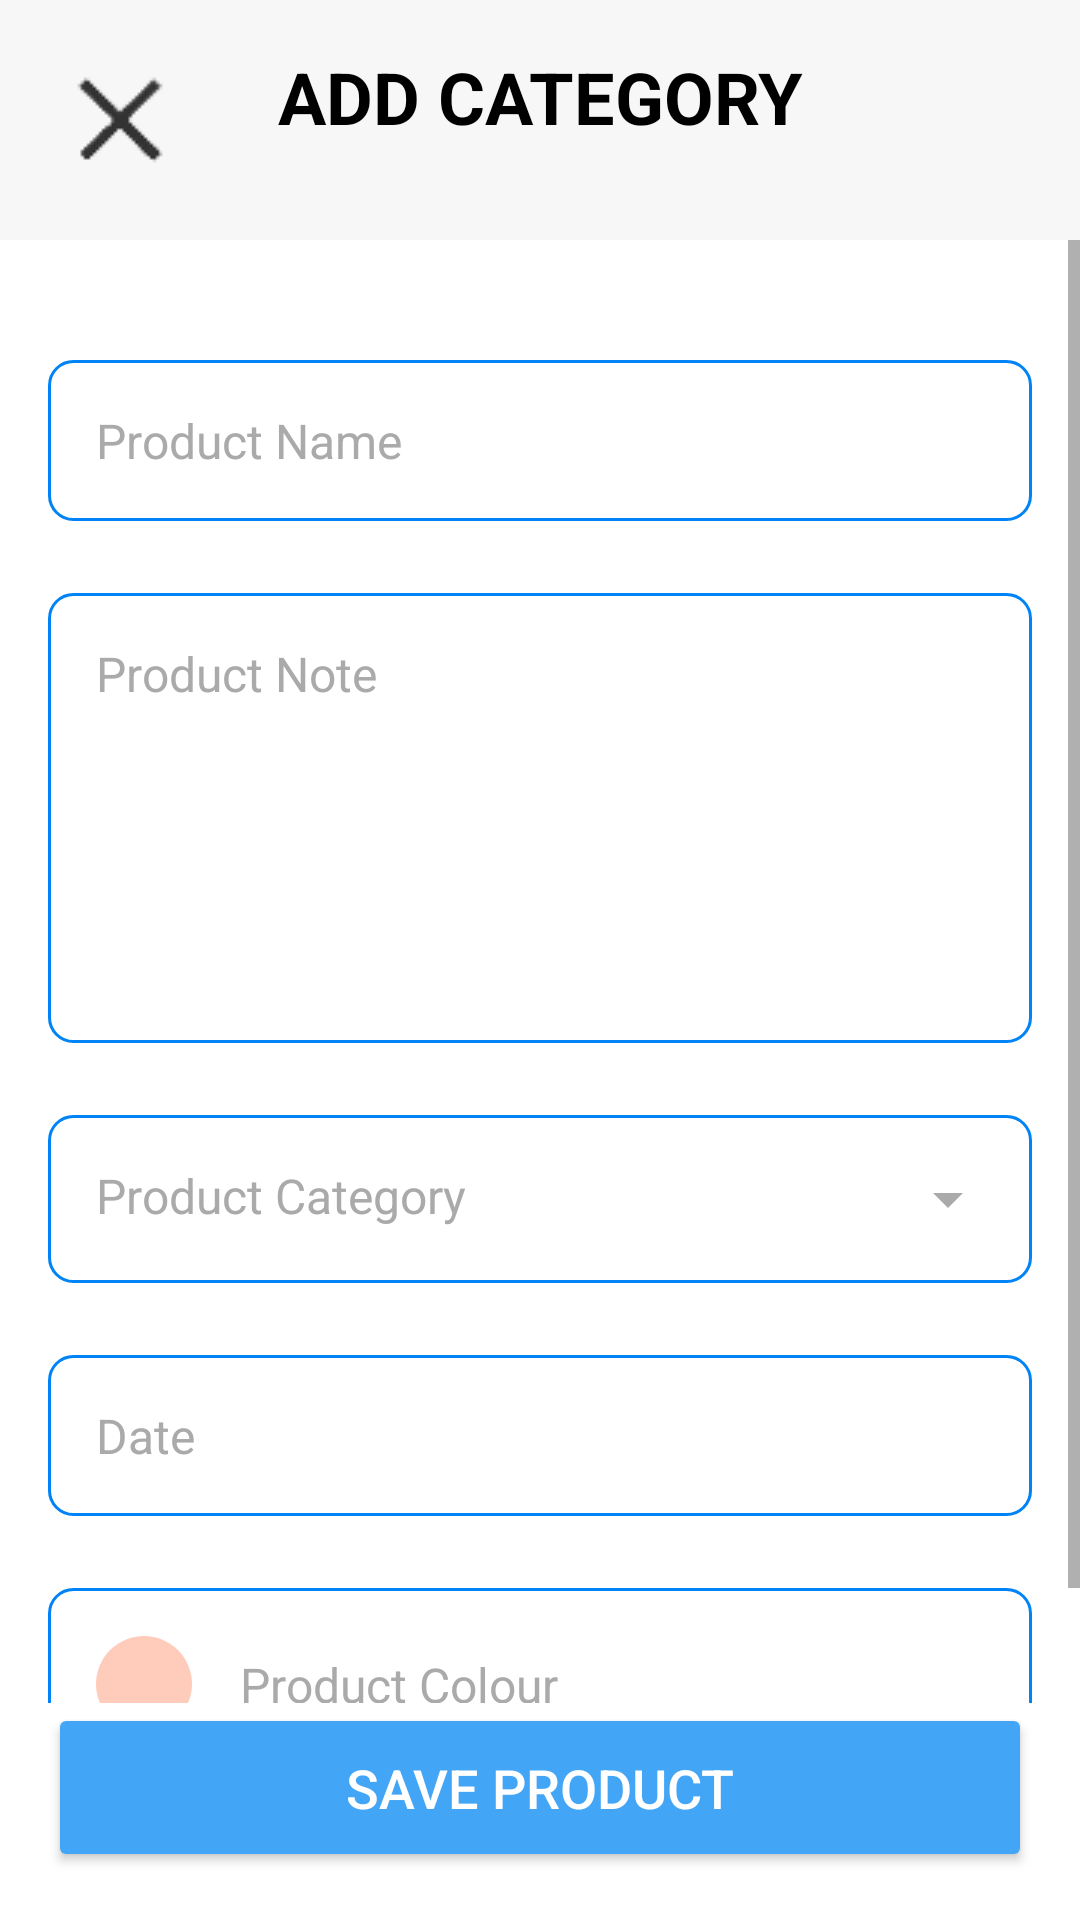

Icons on this 1080w x 1920h Android screen, each with its box as {"x1": x1, "y1": y1, "x2": x2, "y2": y2}:
Close: {"x1": 78, "y1": 78, "x2": 163, "y2": 162}
Dropdown: {"x1": 933, "y1": 1193, "x2": 963, "y2": 1208}
